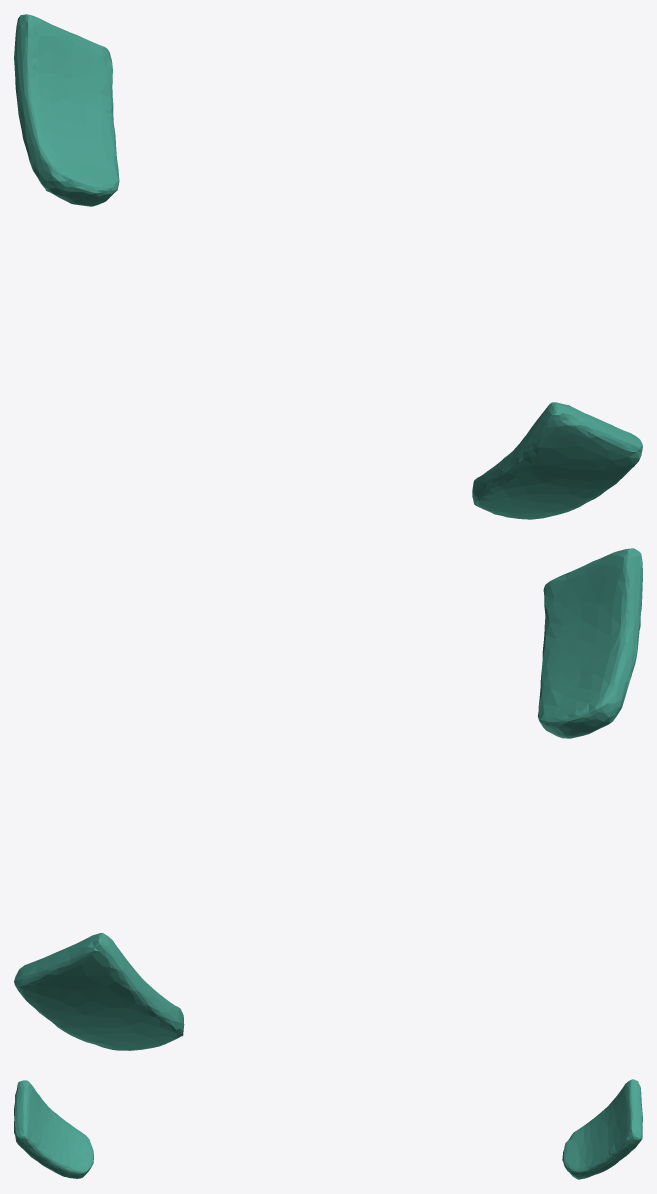
3 renders of one model, top to bottom at view 1: azimuth 30°, elevation 25°; view 2: azimuth 150°, elevation 25°; view 3: azimuth 270°, elevation 25°, orthographic. The views are drawn at different scales.
Visible parts, largest first — view 1: 838.obj; view 2: 838.obj; view 3: 838.obj.
Part boxes in pixels (x1=…): 838.obj: x1=14, y1=14, x2=642, y2=519; 838.obj: x1=14, y1=548, x2=642, y2=1050; 838.obj: x1=14, y1=1079, x2=642, y2=1179.
Bounding box in the file's own units: 1096 × 1388 × 8630.
